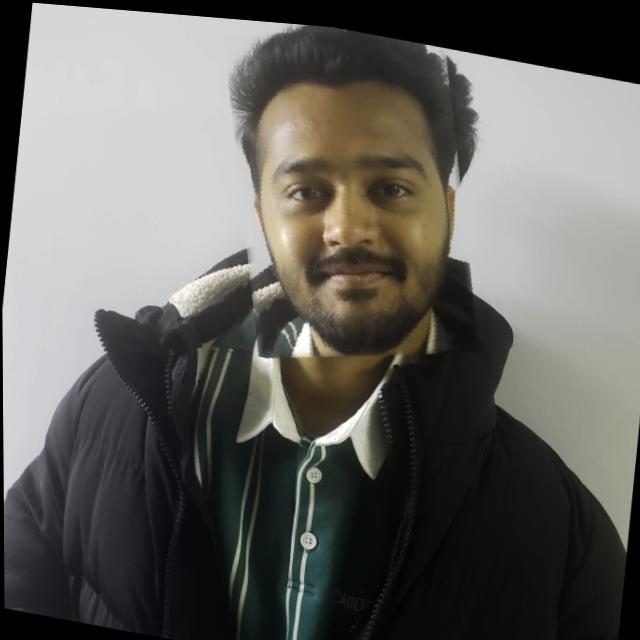happy: (205, 13, 493, 377)
